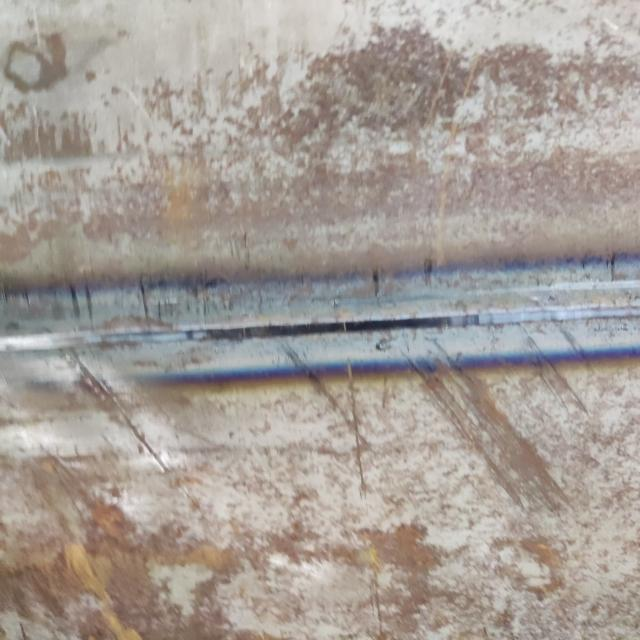seam: (0, 233, 640, 416)
